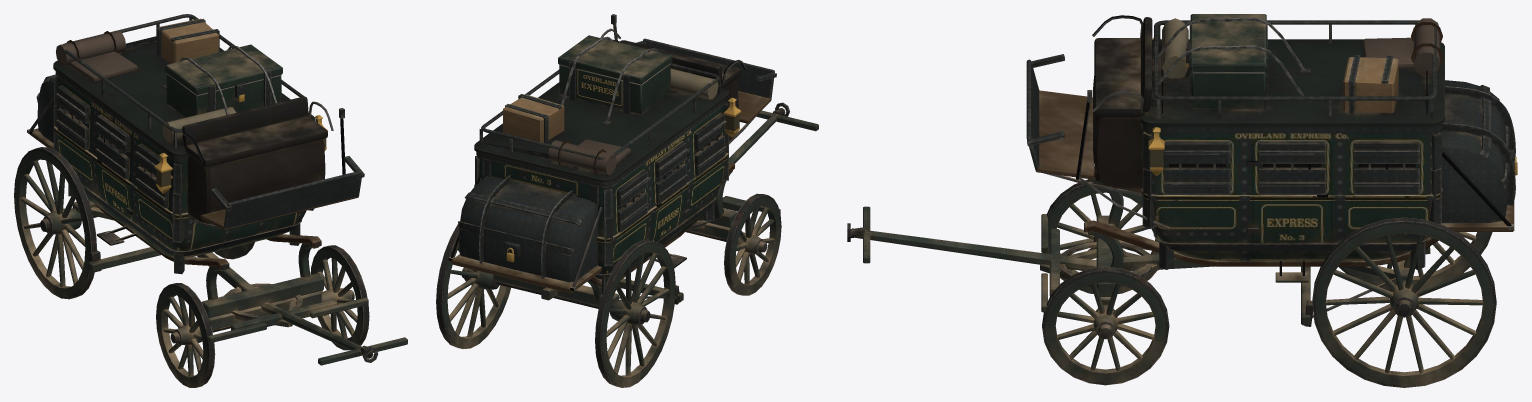
The model's file is stagecoach_treasure.glb.
3 renders of one model, left to right at view 1: azimuth 30°, elevation 25°; view 2: azimuth 150°, elevation 25°; view 3: azimuth 270°, elevation 25°, orthographic. The views are drawn at different scales.
Parts seen in each view (by area): view 1: Body, Chassis, Wheel_RR, Wheel_FR, Wheel_FL, Wheel_RL; view 2: Body, Wheel_RR, Chassis, Wheel_FR, Wheel_RL; view 3: Body, Wheel_RL, Chassis, Wheel_FL, Wheel_FR, Wheel_RR.
Part boxes in pixels (bbox=[...]): Body: bbox=[27, 14, 364, 274]; Chassis: bbox=[72, 198, 407, 365]; Wheel_RR: bbox=[14, 147, 97, 299]; Wheel_FR: bbox=[156, 283, 215, 387]; Wheel_FL: bbox=[310, 245, 369, 350]; Wheel_RL: bbox=[214, 242, 254, 259]; Body: bbox=[448, 14, 776, 294]; Wheel_RR: bbox=[595, 240, 675, 387]; Chassis: bbox=[493, 102, 818, 308]; Wheel_FR: bbox=[724, 193, 781, 295]; Wheel_RL: bbox=[436, 224, 510, 348]; Body: bbox=[1026, 14, 1517, 282]; Wheel_RL: bbox=[1312, 217, 1496, 387]; Chassis: bbox=[847, 167, 1459, 326]; Wheel_FL: bbox=[1042, 266, 1169, 385]; Wheel_FR: bbox=[1045, 179, 1159, 293]; Wheel_RR: bbox=[1338, 232, 1492, 291].
Size of the model in its own units: 2.06 by 2.73 by 5.27.
Materials: 2 (2 with a texture image).
